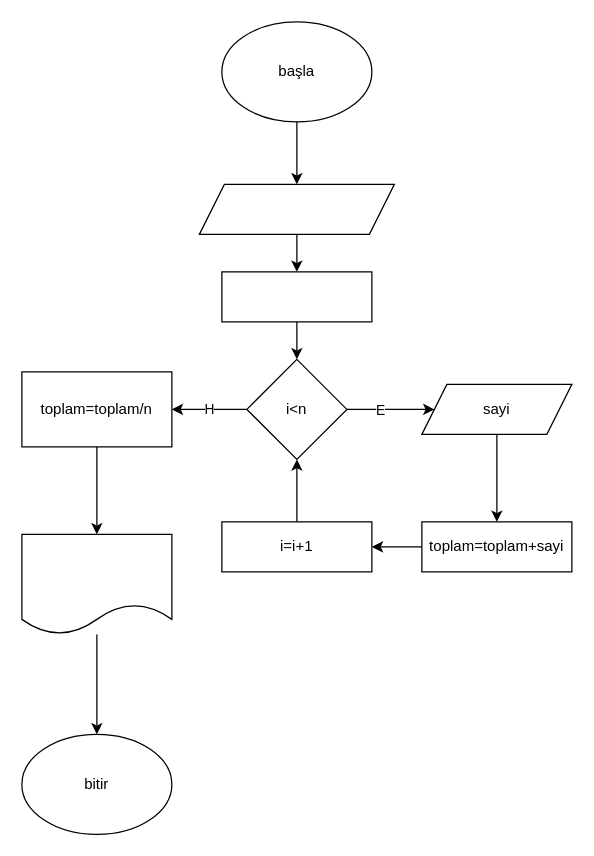
Some shapes in this 594 by 856 pixel diagram are drawn without their labels. Here are the shapes that lost their labels. From the top down, the centre of each, then its label:
At (296,208): "n=sayi eklemek".
At (296,296): "i=0 toplam=0".
At (96,583): "sayının ortalaması=toplam".
